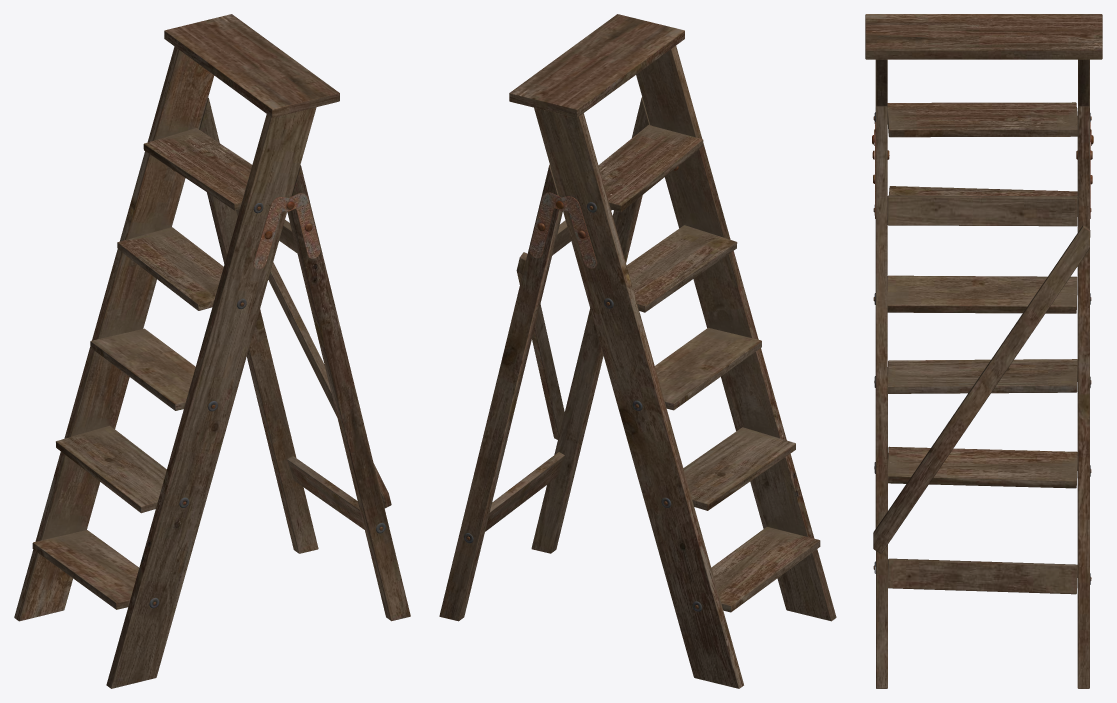
The model's file is wooden_ladder_02.gltf.
The picture shows the model from 3 angles, left to right: view 1: azimuth 30°, elevation 25°; view 2: azimuth 150°, elevation 25°; view 3: azimuth 270°, elevation 25°; orthographic projection. The views are drawn at different scales.
Parts seen in each view (by area): view 1: wooden_ladder_02__x; view 2: wooden_ladder_02__x; view 3: wooden_ladder_02__x.
Boxes of the visible parts, left/top/right/bottom form: wooden_ladder_02__x: left=14, top=14, right=410, bottom=688; wooden_ladder_02__x: left=439, top=14, right=836, bottom=688; wooden_ladder_02__x: left=865, top=14, right=1102, bottom=688.
Size of the model in its own units: 0.9895 by 1.72 by 0.6181.
Materials: 1 (1 with a texture image).
